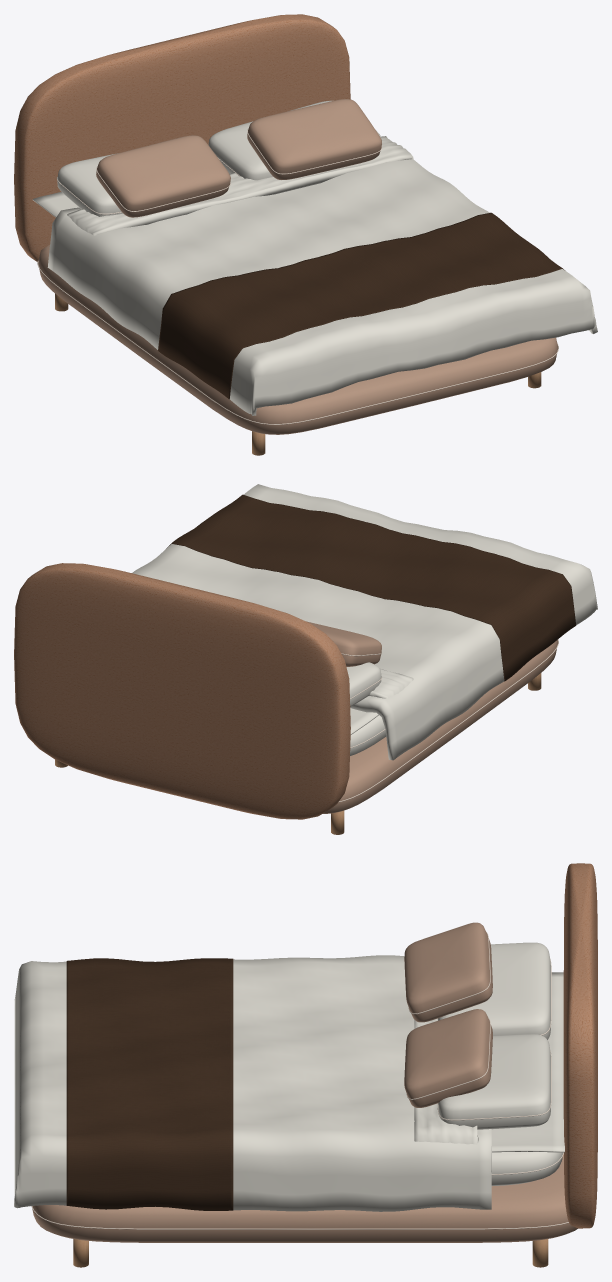
The model's file is contemporary.bed.gltf.
3 views of the same model, one above another, from view 1: azimuth 30°, elevation 25°; view 2: azimuth 150°, elevation 25°; view 3: azimuth 270°, elevation 25° (orthographic). The views are drawn at different scales.
Parts seen in each view (by area): view 1: contemporary.bed.foot; view 2: contemporary.bed.foot; view 3: contemporary.bed.foot.
Part boxes in pixels (<box>): contemporary.bed.foot: <box>14,14,597,455</box>; contemporary.bed.foot: <box>14,484,597,834</box>; contemporary.bed.foot: <box>14,863,597,1267</box>.
Size of the model in its own units: 1.77 by 1.09 by 2.22.
6 materials, 4 textured.
